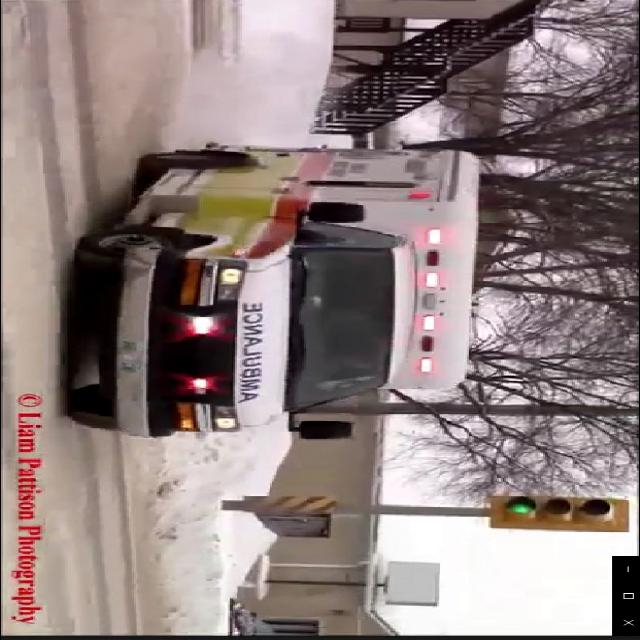emergency: (56, 139, 482, 445)
